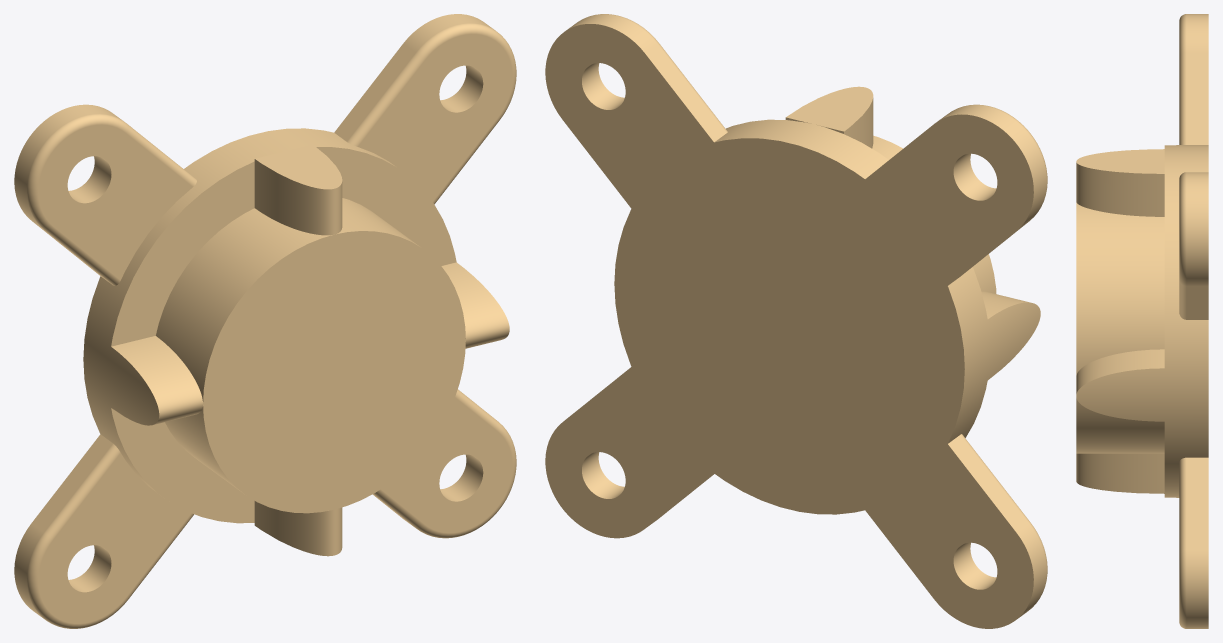
The model's file is endcap.gltf.
The picture shows the model from 3 angles, left to right: view 1: azimuth 30°, elevation 25°; view 2: azimuth 150°, elevation 25°; view 3: azimuth 270°, elevation 25°; orthographic projection. The views are drawn at different scales.
Parts seen in each view (by area): view 1: EndCap; view 2: EndCap; view 3: EndCap.
Boxes of the visible parts, x1,y1,x2,y2 form: EndCap: (14, 14, 516, 628); EndCap: (545, 14, 1047, 628); EndCap: (1076, 14, 1208, 628).
Size of the model in its own units: 0.0335 by 0.0335 by 0.009.
